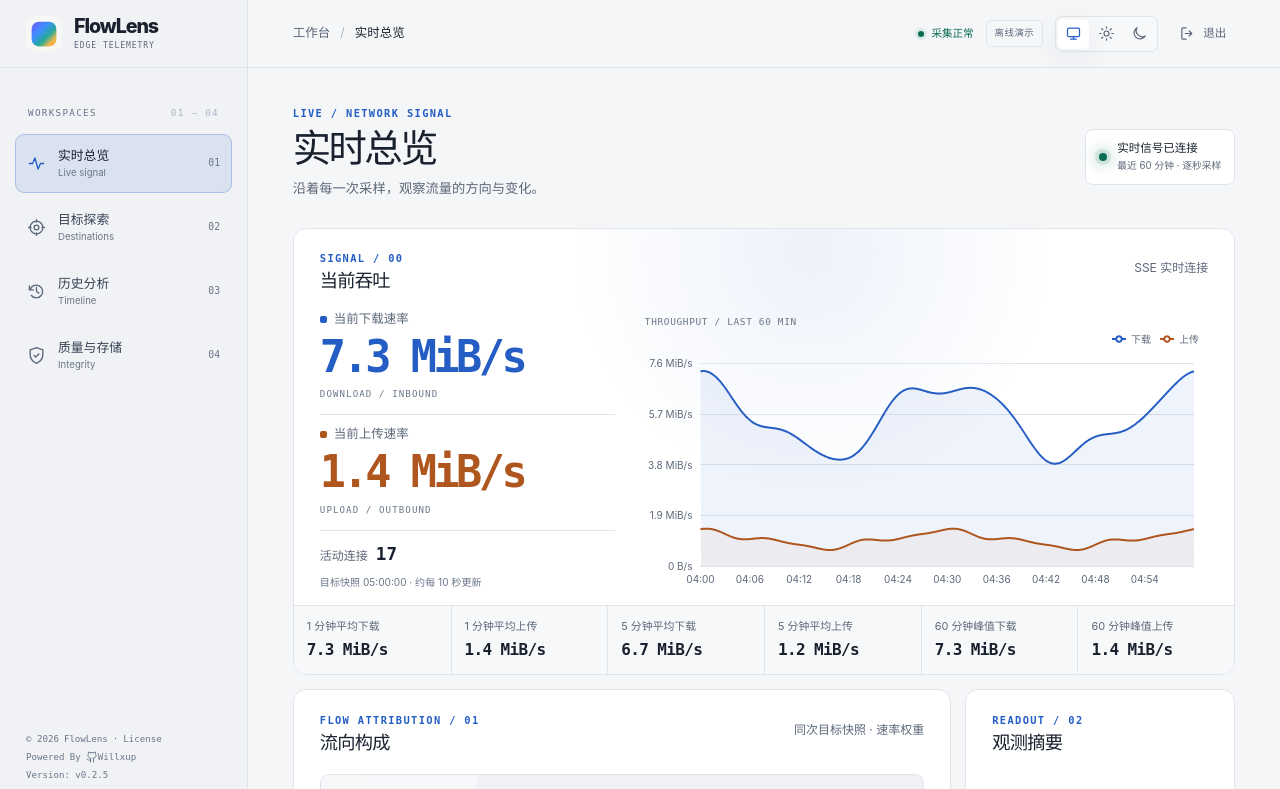
Test: DashboardPage › starts with the live signal and navigates four separate workspaces
Expected: the link with aria-label "FlowLens GitHub 仓库" is shown, [0,0,247,68]
Expected: the heading "实时总览" is shown, [293,125,436,171]
Click the button "目标探索 Destinations 02".
click(124, 227)  # box [15,198,232,257]
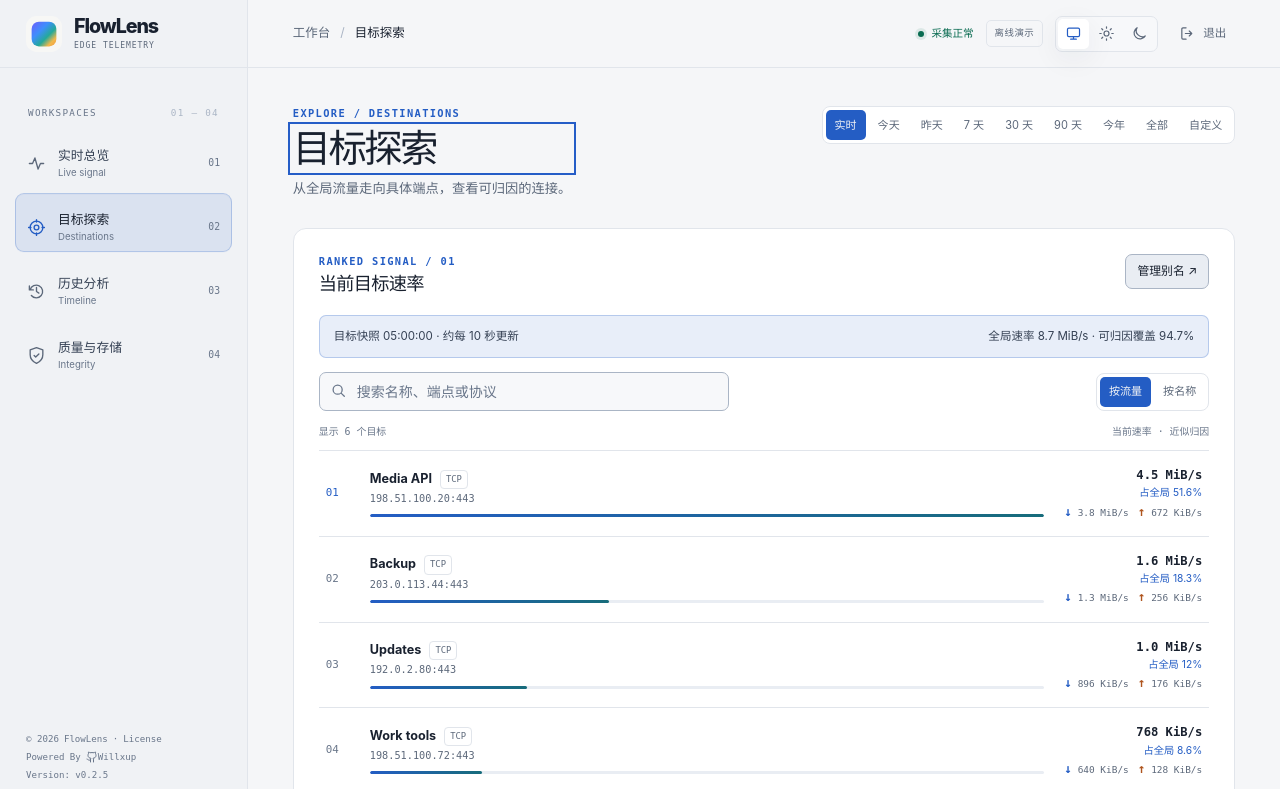
Expected: the heading "目标探索" is shown, [293,125,436,171]
Expected: the heading "当前吞吐" is gone
Click the button "历史分析 Timeline 03".
click(124, 291)  # box [15,262,232,321]
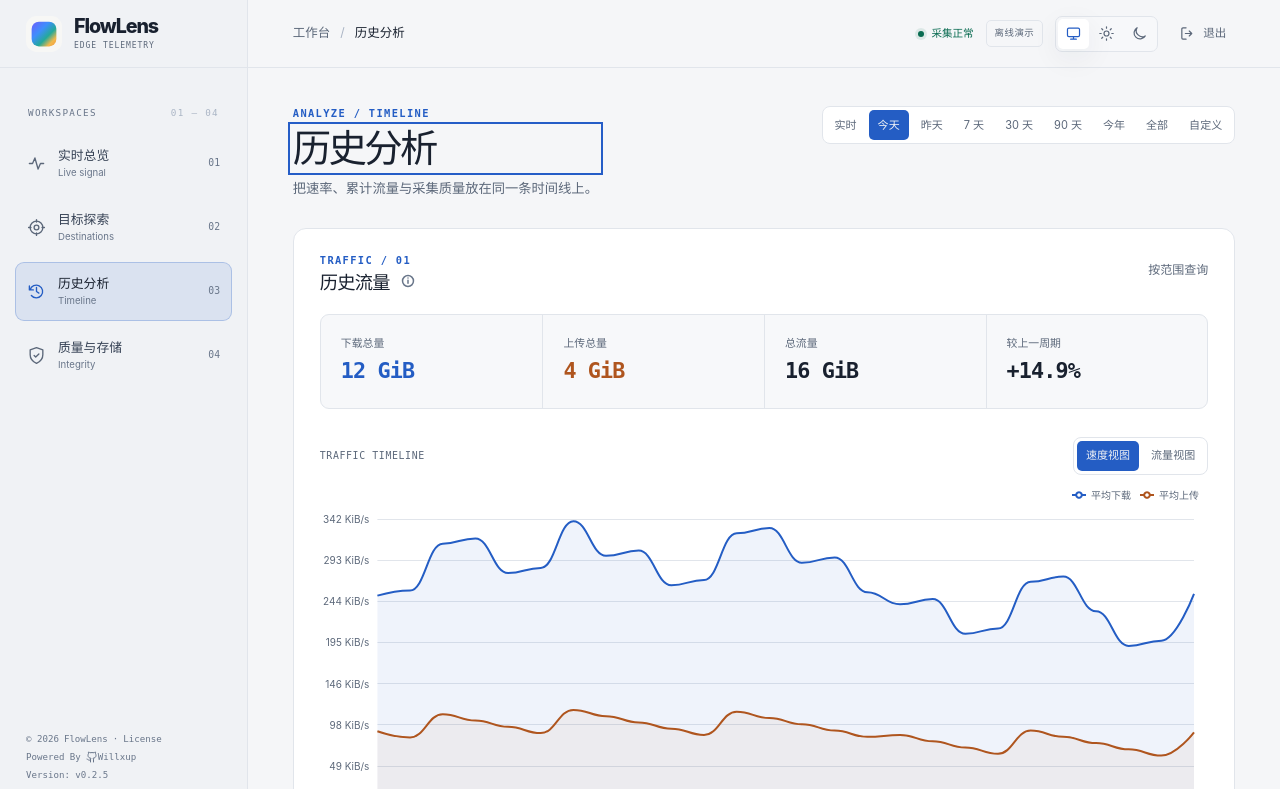
Expected: the heading "历史分析" is shown, [293,125,436,171]
Expected: the heading "历史流量" is shown, [320,271,390,294]
Click the button "质量与存储 Integrity 04".
click(124, 355)  # box [15,326,232,385]
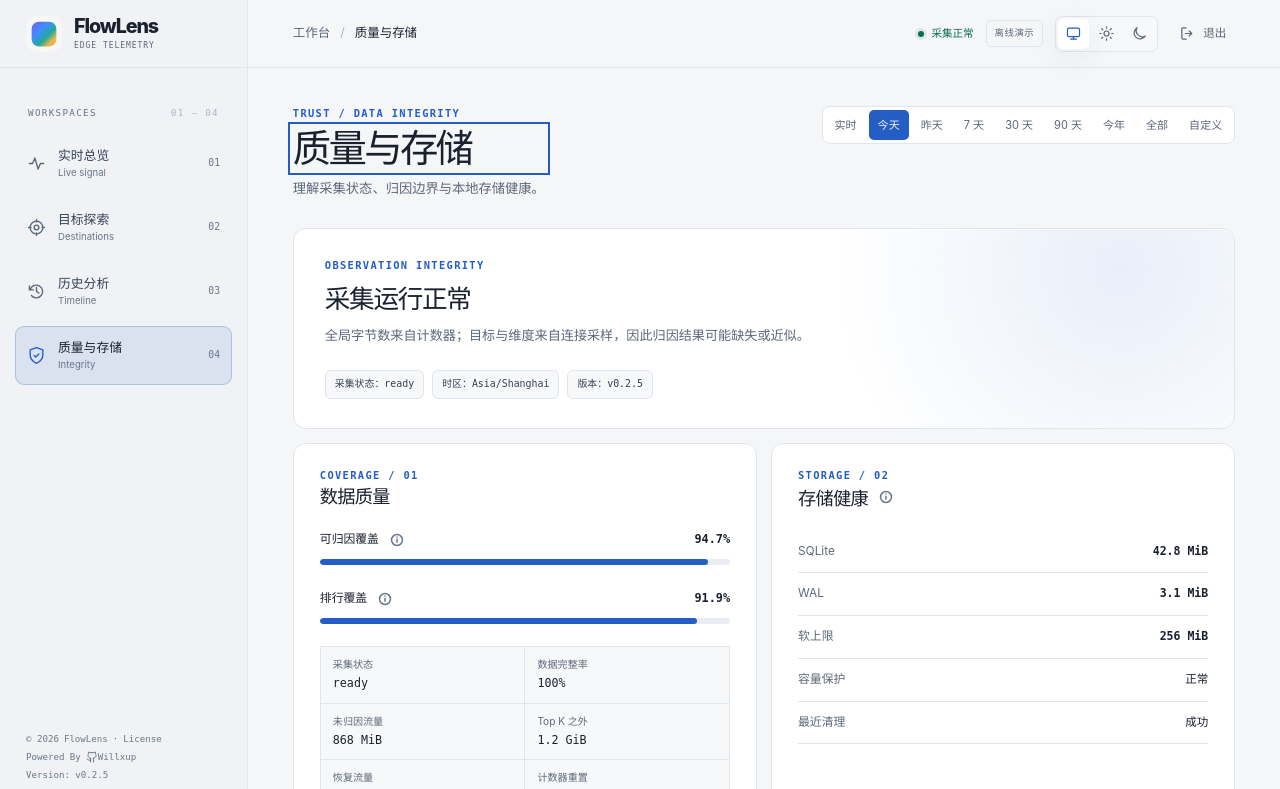
Expected: the text "Top K 之外" is shown, [537,715,588,727]
Expected: the heading "质量与存储" is shown, [293,125,471,171]
Expected: the heading "存储健康" is shown, [798,485,868,512]
